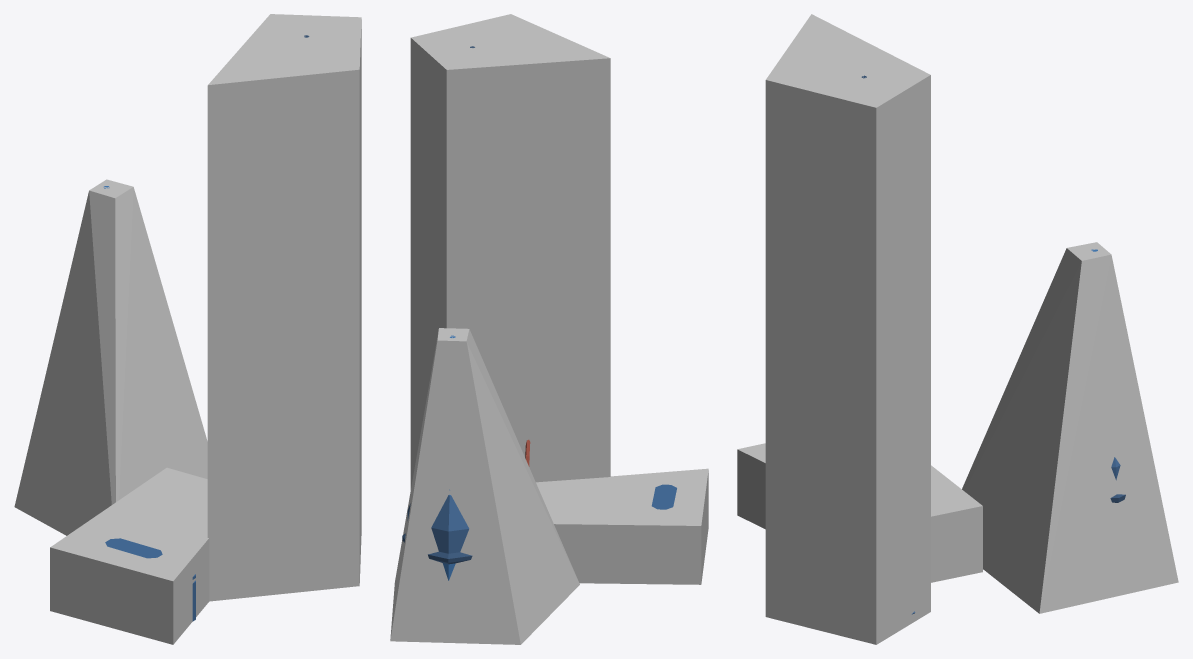
The model's file is SM_Electric_System.fbx.
3 views of the same model, side by side, from view 1: azimuth 30°, elevation 25°; view 2: azimuth 150°, elevation 25°; view 3: azimuth 270°, elevation 25° (orthographic). The views are drawn at different scales.
Parts seen in each view (by area): view 1: SM_Electric_System_ConvexHulls, SM_Electric_System; view 2: SM_Electric_System_ConvexHulls, SM_Electric_System; view 3: SM_Electric_System_ConvexHulls.
Part boxes in pixels (x1,y1,x2,y2): SM_Electric_System_ConvexHulls: (14, 14, 361, 644); SM_Electric_System: (103, 35, 309, 621); SM_Electric_System_ConvexHulls: (390, 14, 708, 644); SM_Electric_System: (402, 46, 676, 580); SM_Electric_System_ConvexHulls: (737, 14, 1178, 644).
Size of the model in its own units: 591 by 695 by 933.
2 materials, 1 textured.
